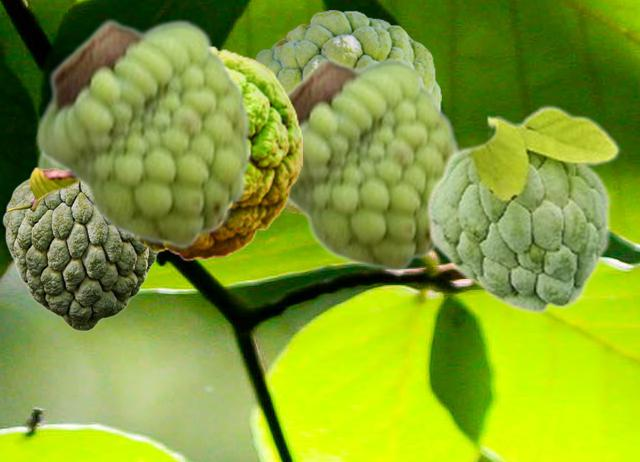atis: (36, 17, 252, 250), (424, 104, 620, 314), (253, 10, 440, 216), (286, 55, 459, 274), (132, 45, 301, 260), (2, 166, 157, 330)
